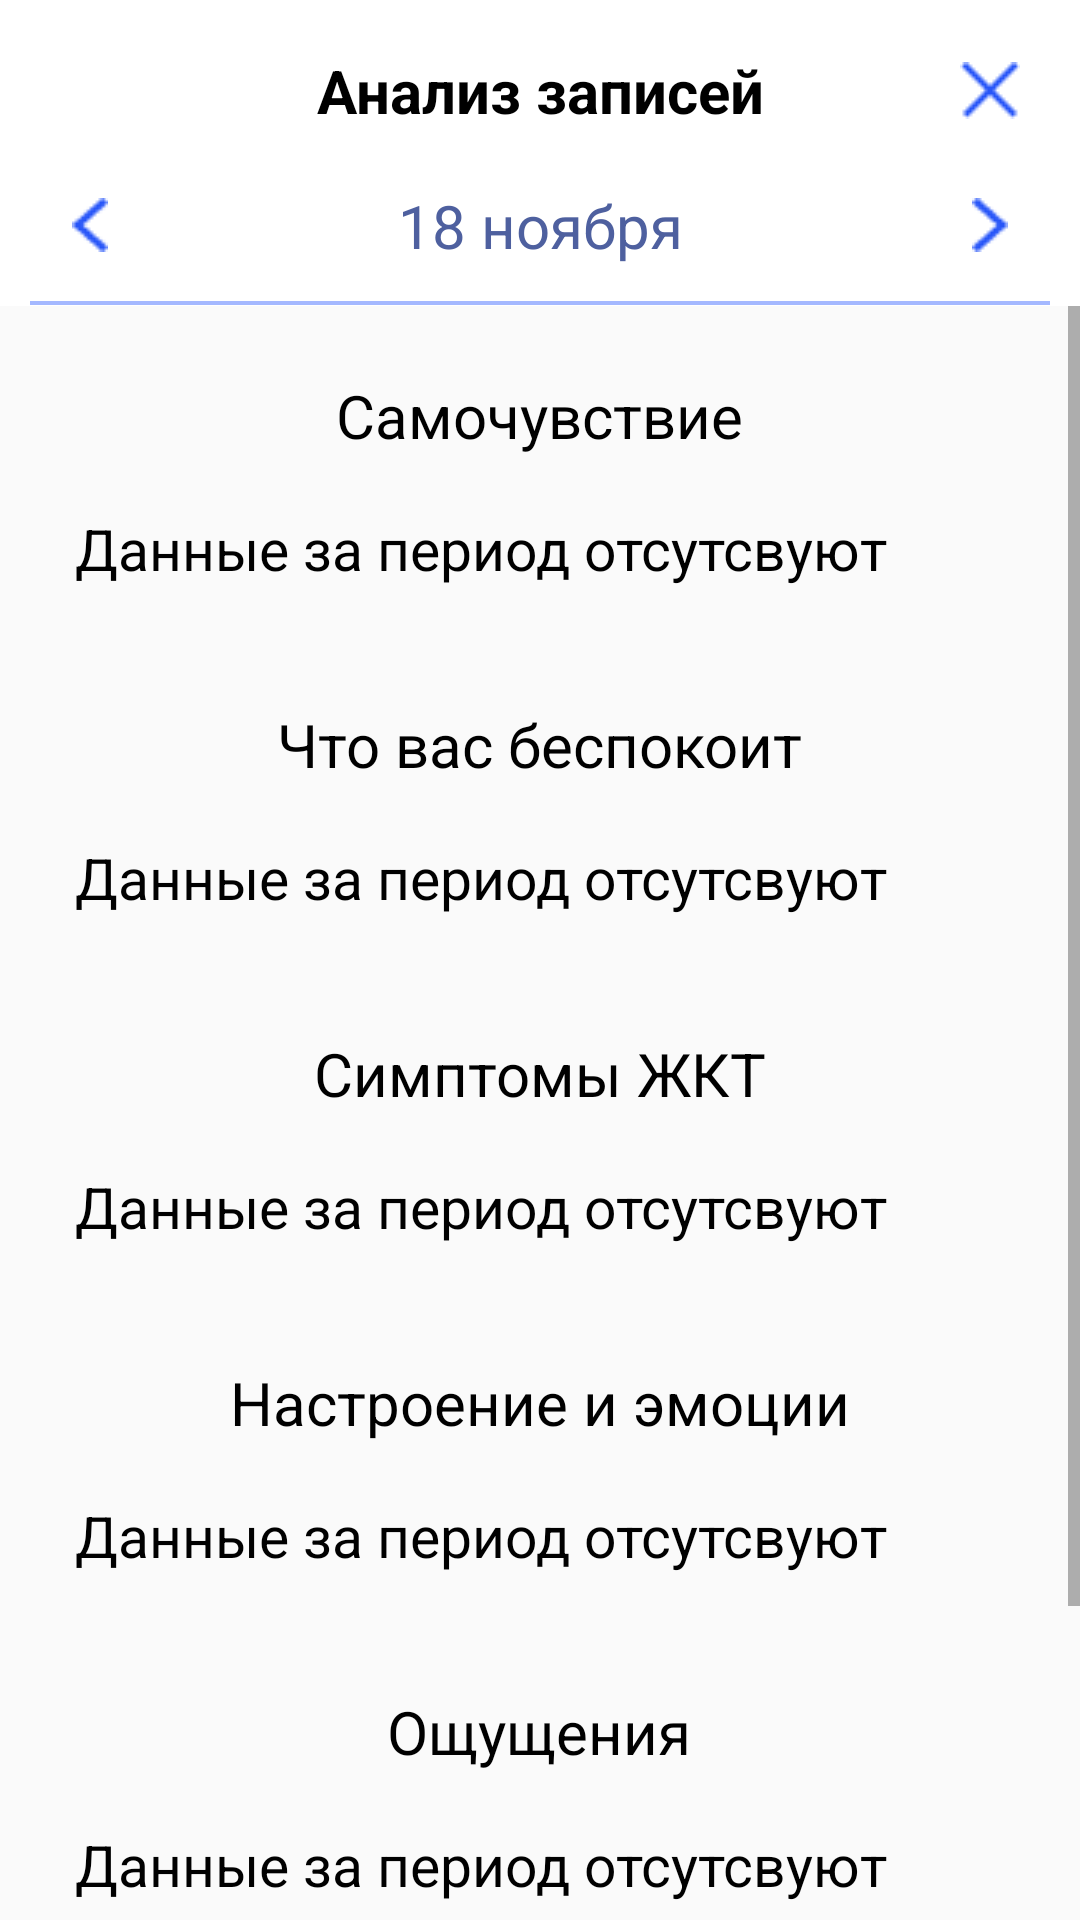

Where icons sit on this 1080 x 1920 app screen, as (x1, y1, x2, y2):
closebutton: (960, 62, 1020, 119)
left: (72, 198, 108, 252)
right: (972, 198, 1008, 252)
